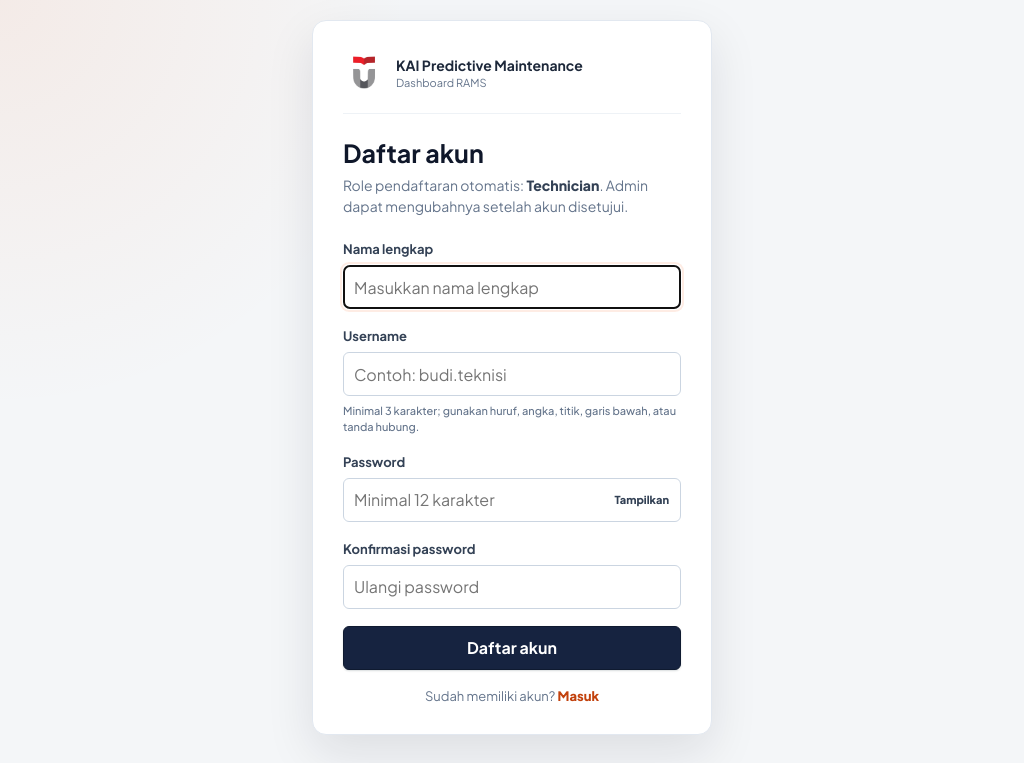
Test: RegisterForm › explains when the deployed backend does not have registration yet
Type "Budi Teknisi" into the field labelled "Nama lengkap". click: (512, 287)
box: [343, 265, 681, 309]
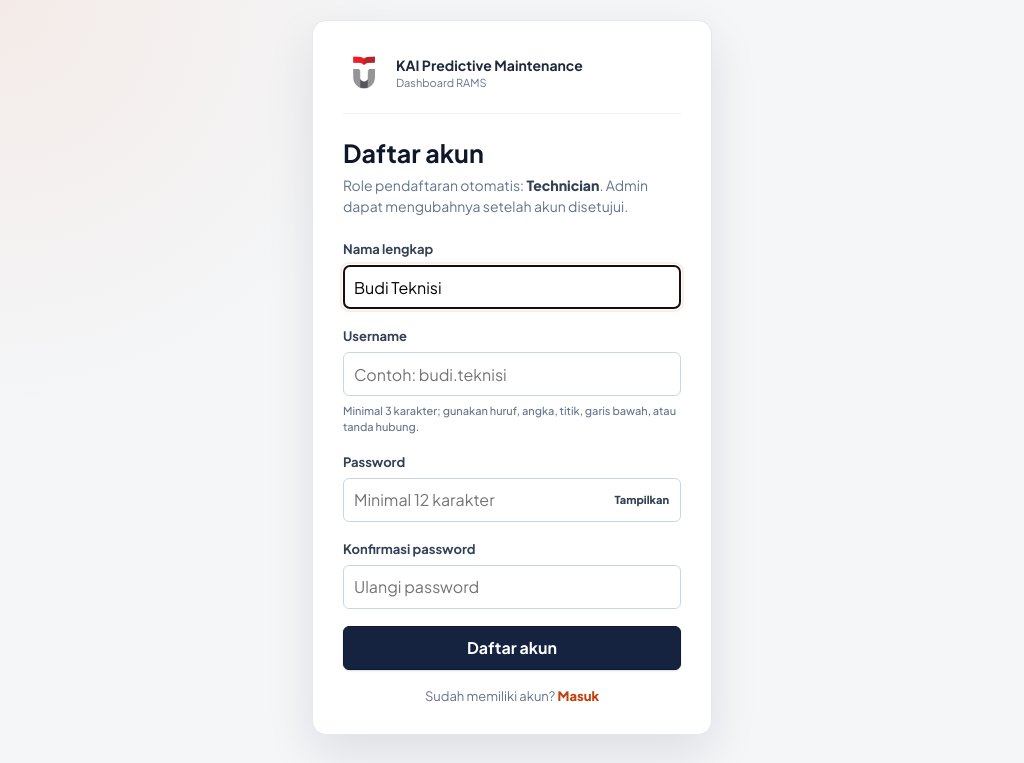
Type "budi.teknisi" into the field labelled "Username". click: (512, 374)
box: [343, 352, 681, 396]
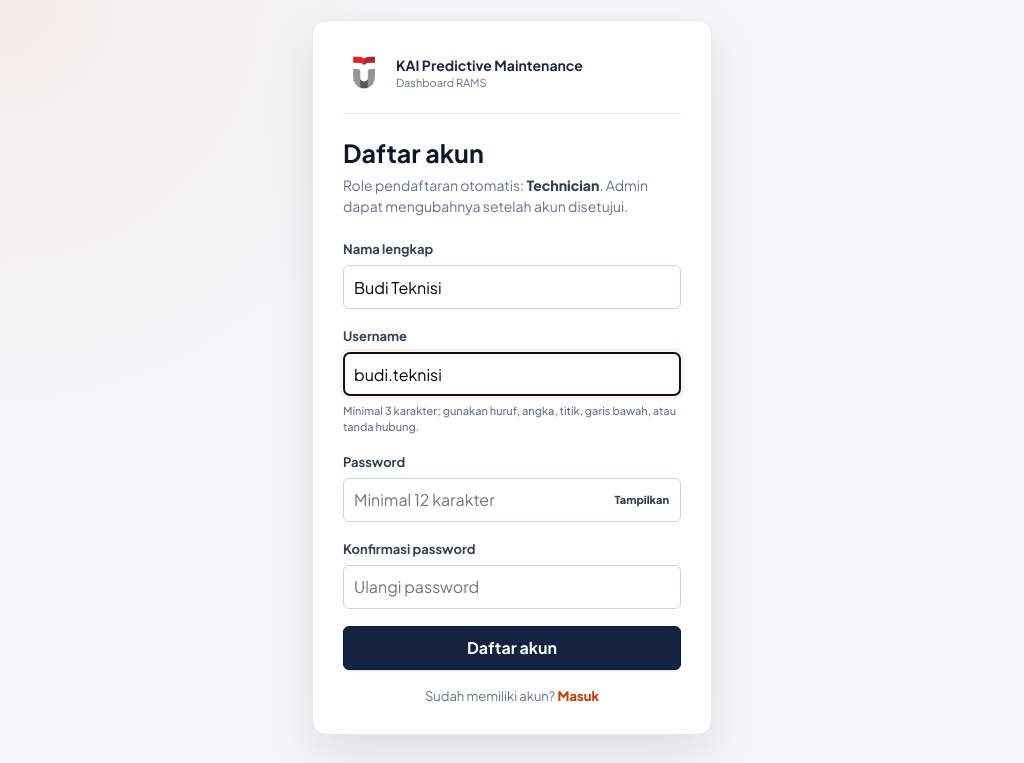
Type "password-kuat-123" into the password field labelled "Password". click: (512, 500)
box: [343, 478, 681, 522]
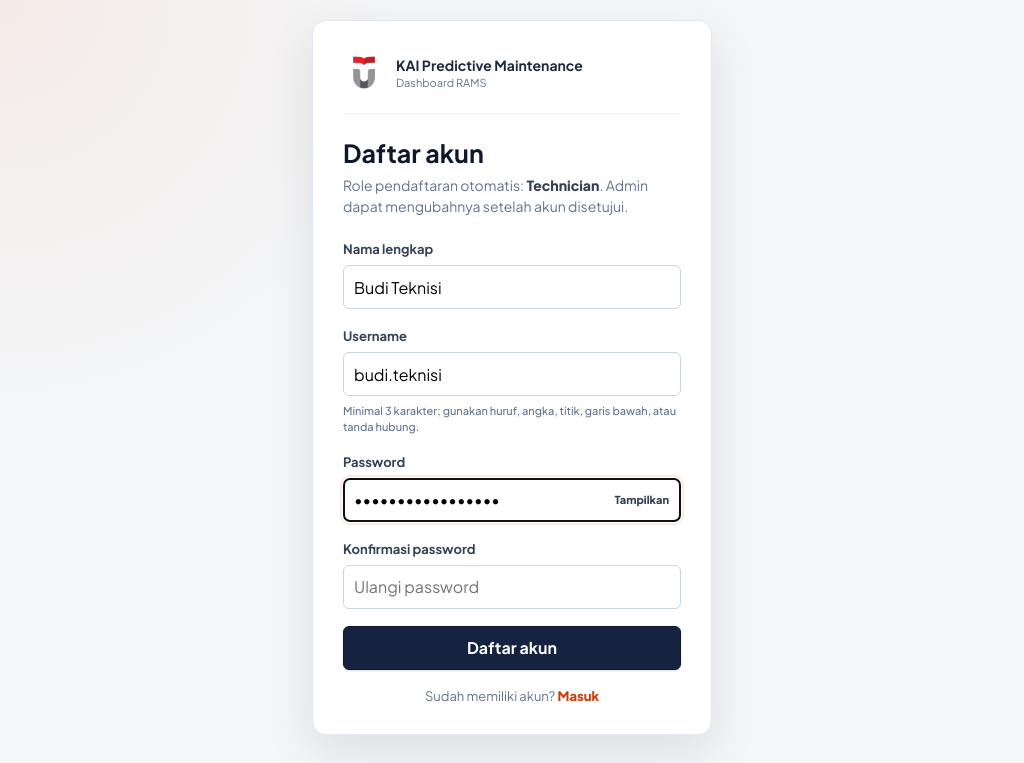
Type "password-kuat-123" into the password field labelled "Konfirmasi password". click: (512, 587)
box: [343, 565, 681, 609]
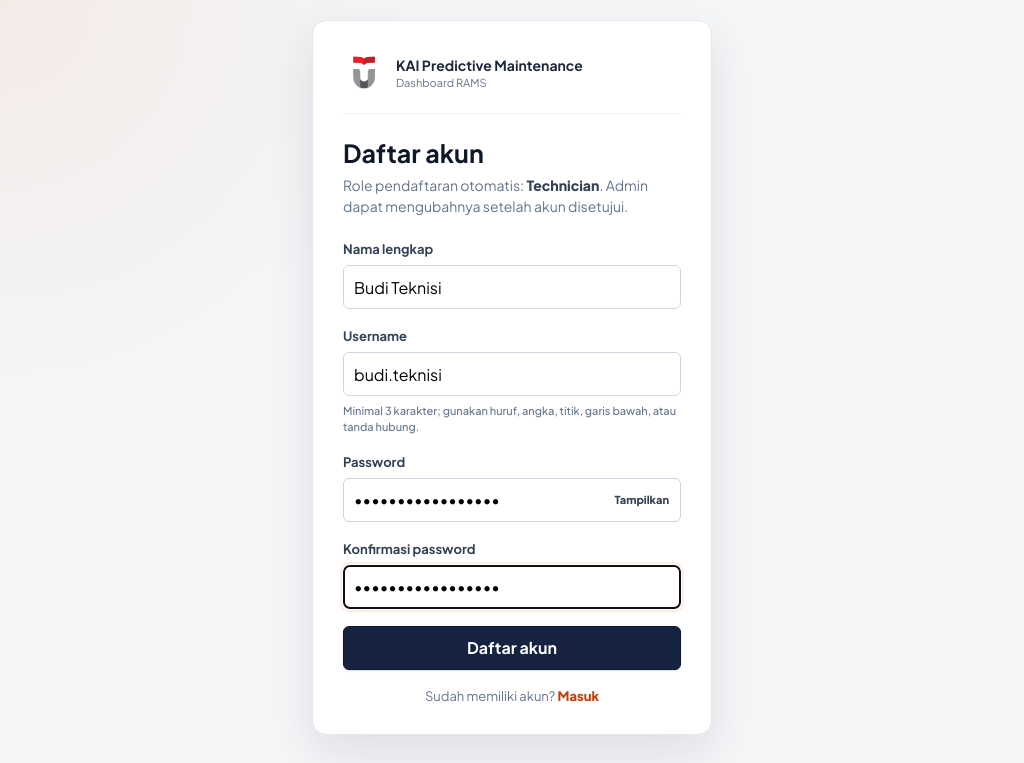
Click the button "Daftar akun". click: (512, 648)
box: [343, 626, 681, 670]
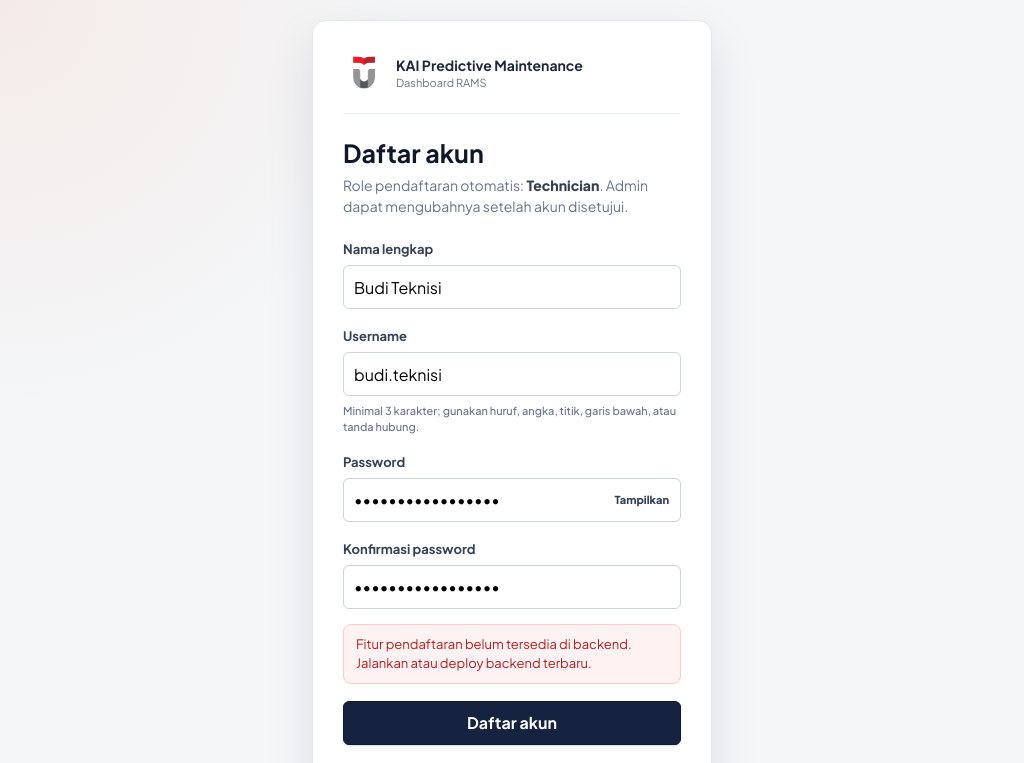
Now the message shows "backend terbaru", box [356, 636, 632, 671]
